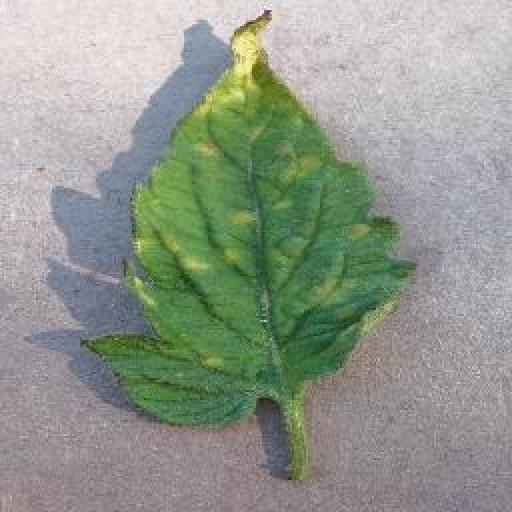Leaf Mold: (85, 10, 420, 430)
